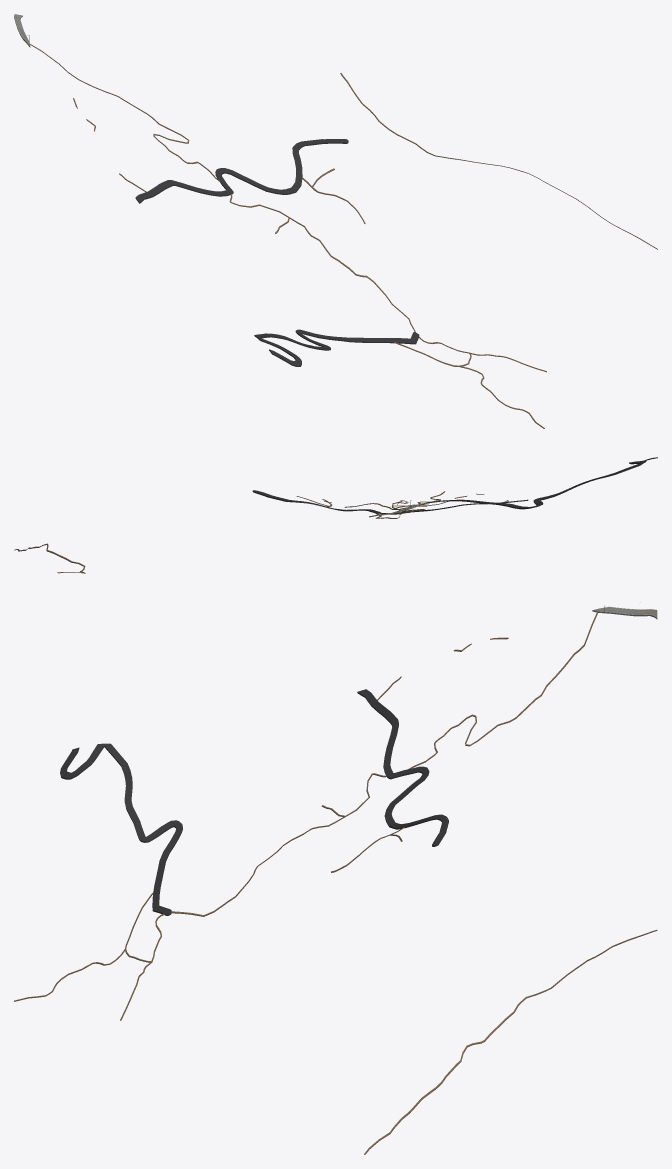
The picture shows the model from 3 angles, top to bottom: view 1: azimuth 30°, elevation 25°; view 2: azimuth 150°, elevation 25°; view 3: azimuth 270°, elevation 25°; orthographic projection. The views are drawn at different scales.
Bounding box in the file's own units: 587 × 284 × 584.
